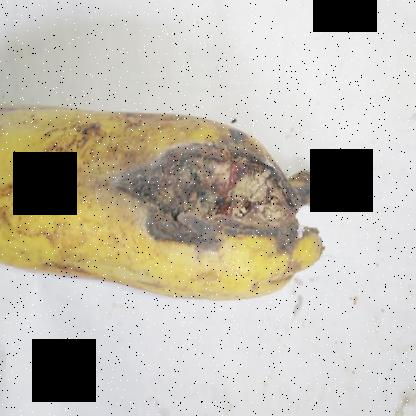ripe: (0, 98, 120, 294)
rotten: (93, 131, 322, 282)
